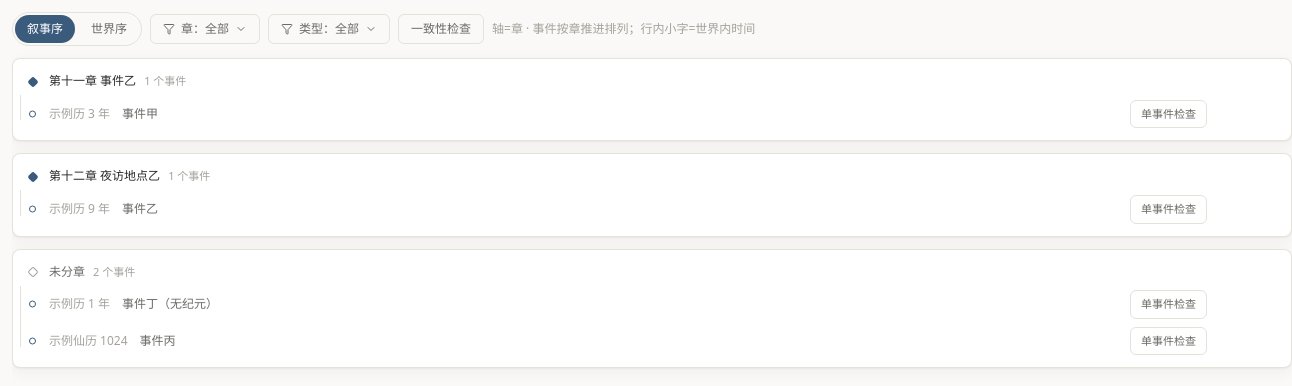
it: #1353 轴选择器（世界序专属；≥2 条轴才出现） › T2 切世界序 → 选择器出现 + 3 chips，默认只勾选主力轴（示例历）→ 1 条竖轴
What coordinates should you click on to do the following:
click the button with test id "tl-view-world"
I would click on:
 (109, 29)
Its box is [79,15,139,43].
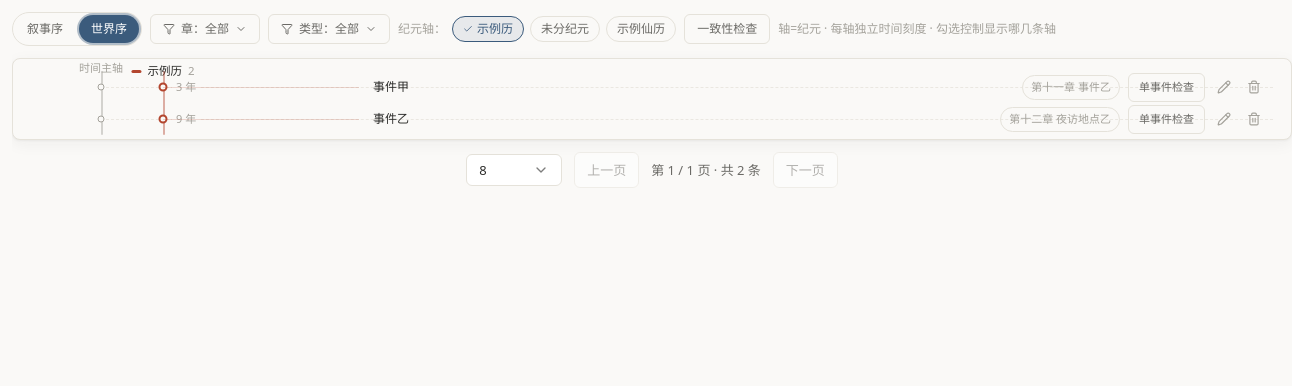
Check: the element with test id "tl-axis-picker" is shown, box [398,16,676,42]
